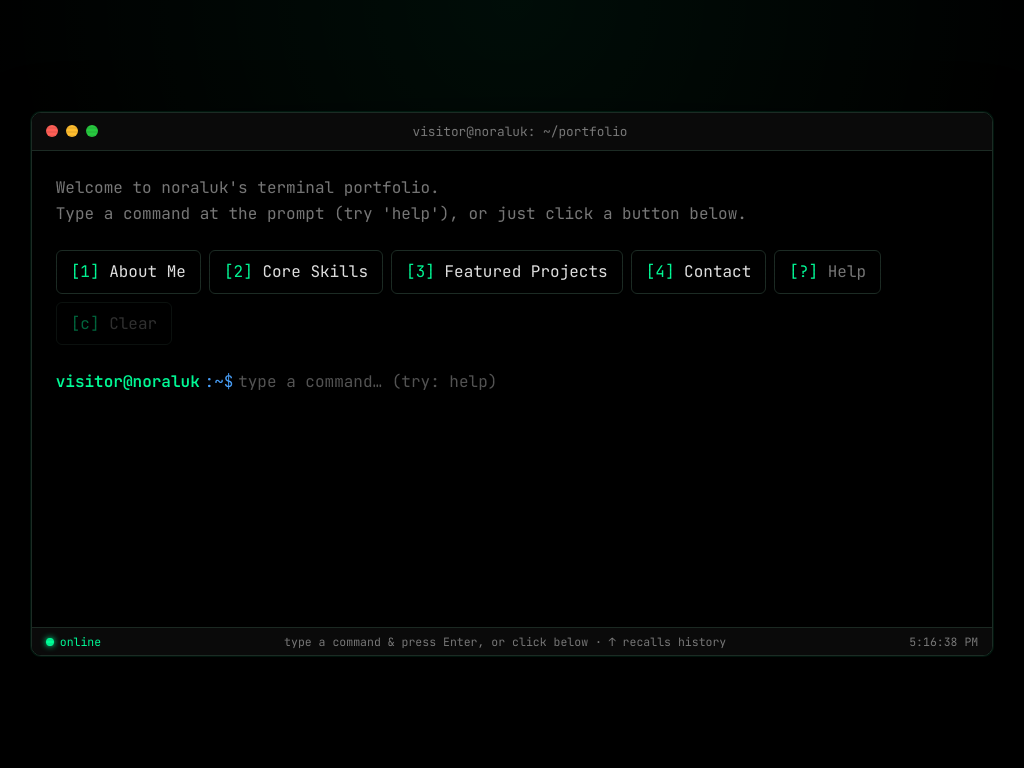
Test: Terminal (reduced motion) › returns to the main menu from the project prompt
Click the button "[3] Featured Projects" at (507, 272), box 391,250 -> 623,294
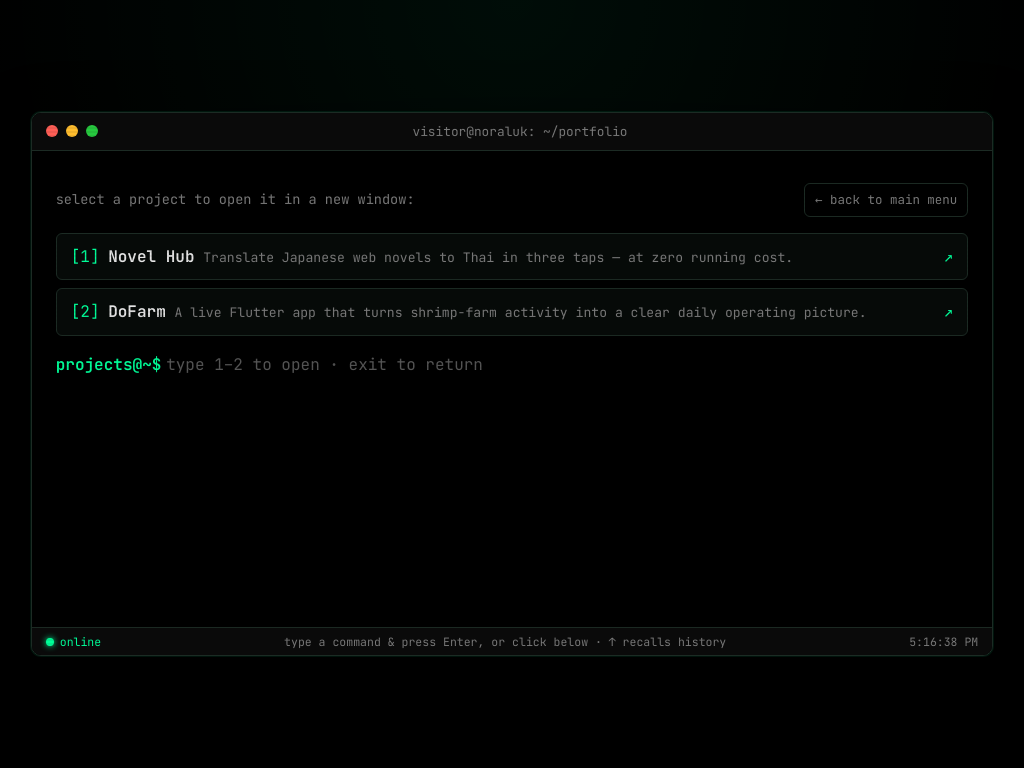
Type "exit" into the field named "project command" at (567, 365), box 166,352 -> 968,378
Then press Enter
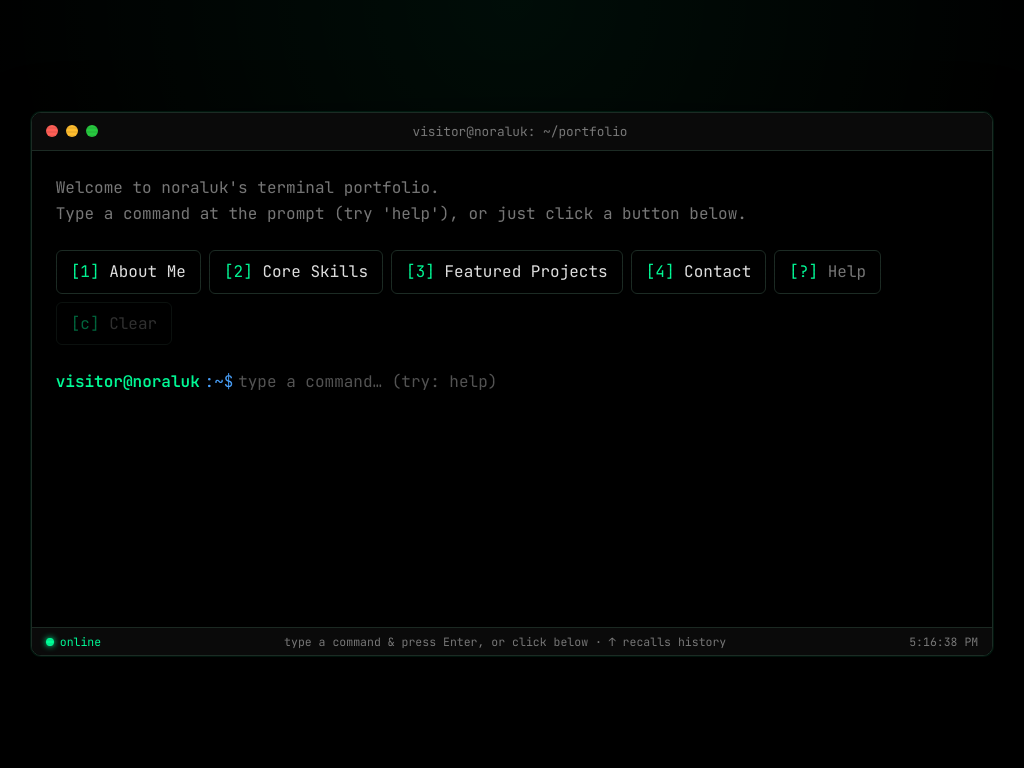
Now the button "[1] About Me" is shown, box 56,250 -> 201,294
